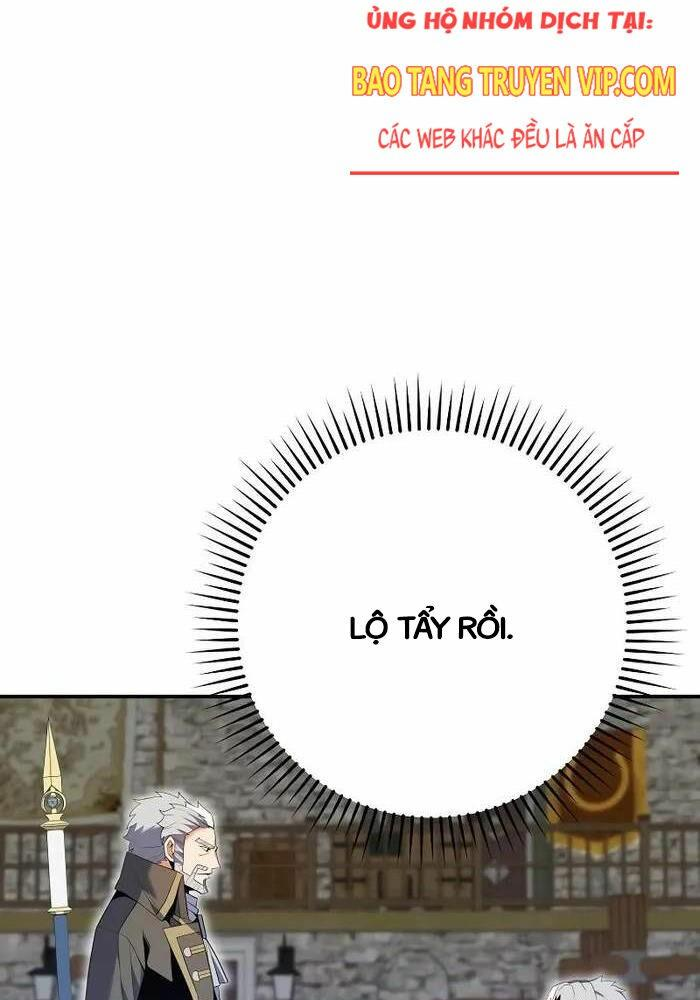quangcao: (351, 0, 682, 174)
